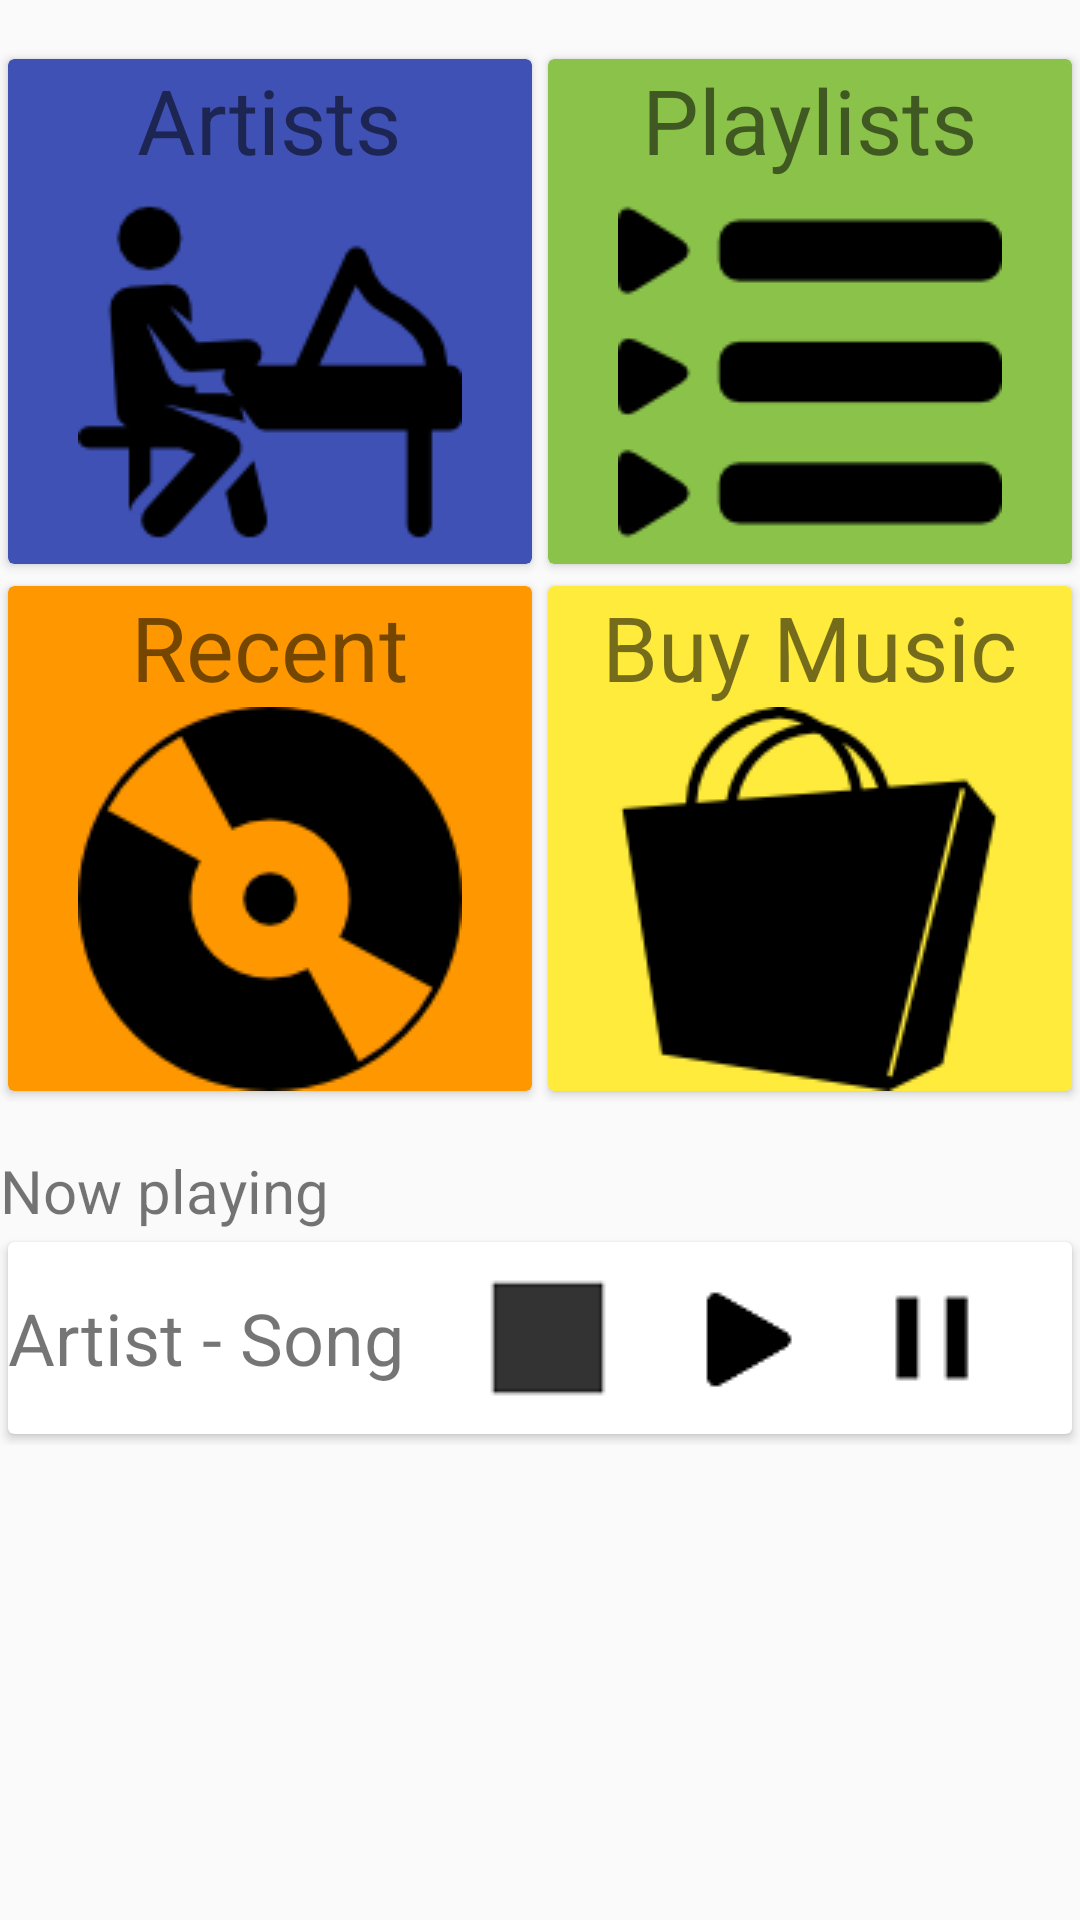

Screen size 1080w x 1920h. Icon name, then its center in pixels as [x,y]:
pause: [932,1338]
play: [749,1339]
stop: [548,1338]
